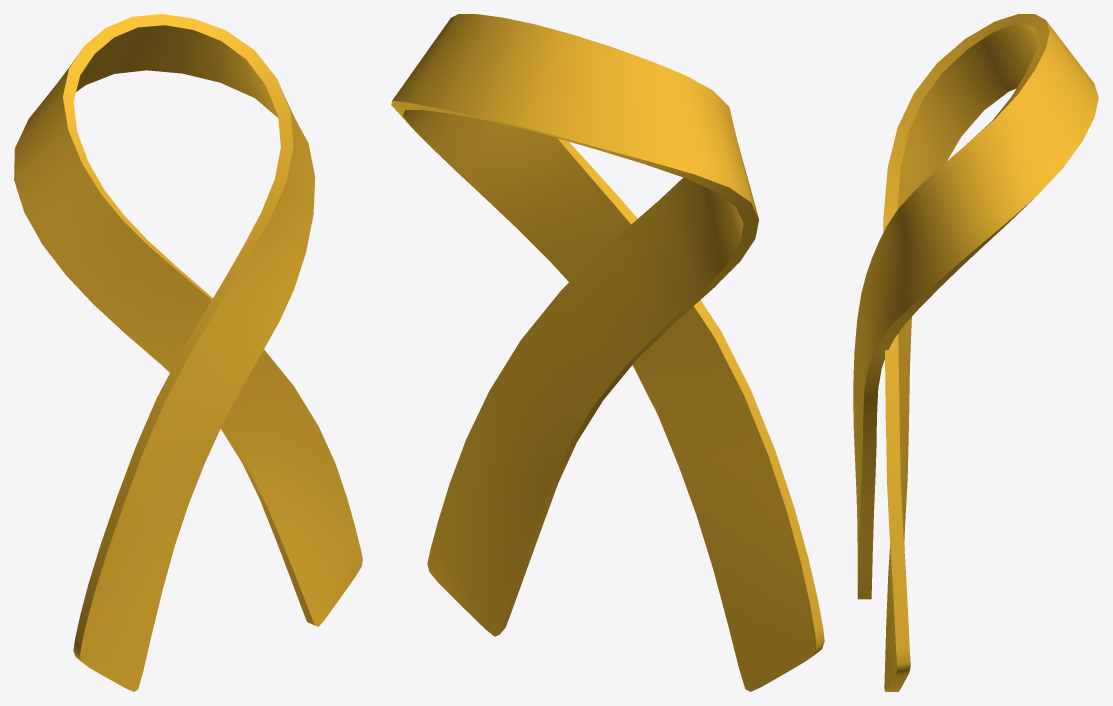
Rendered from reminder_ribbon.glb.
3 renders of one model, left to right at view 1: azimuth 30°, elevation 25°; view 2: azimuth 150°, elevation 25°; view 3: azimuth 270°, elevation 25°, orthographic. The views are drawn at different scales.
Parts seen in each view (by area): view 1: Plane.026; view 2: Plane.026; view 3: Plane.026.
Part boxes in pixels (<box>): Plane.026: <box>14,14,362,691</box>; Plane.026: <box>391,14,824,691</box>; Plane.026: <box>853,14,1098,691</box>.
Size of the model in its own units: 1.32 by 2.45 by 0.8883.
1 material, 1 textured.
